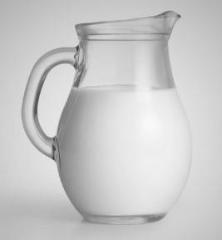glass: (22, 8, 194, 228)
